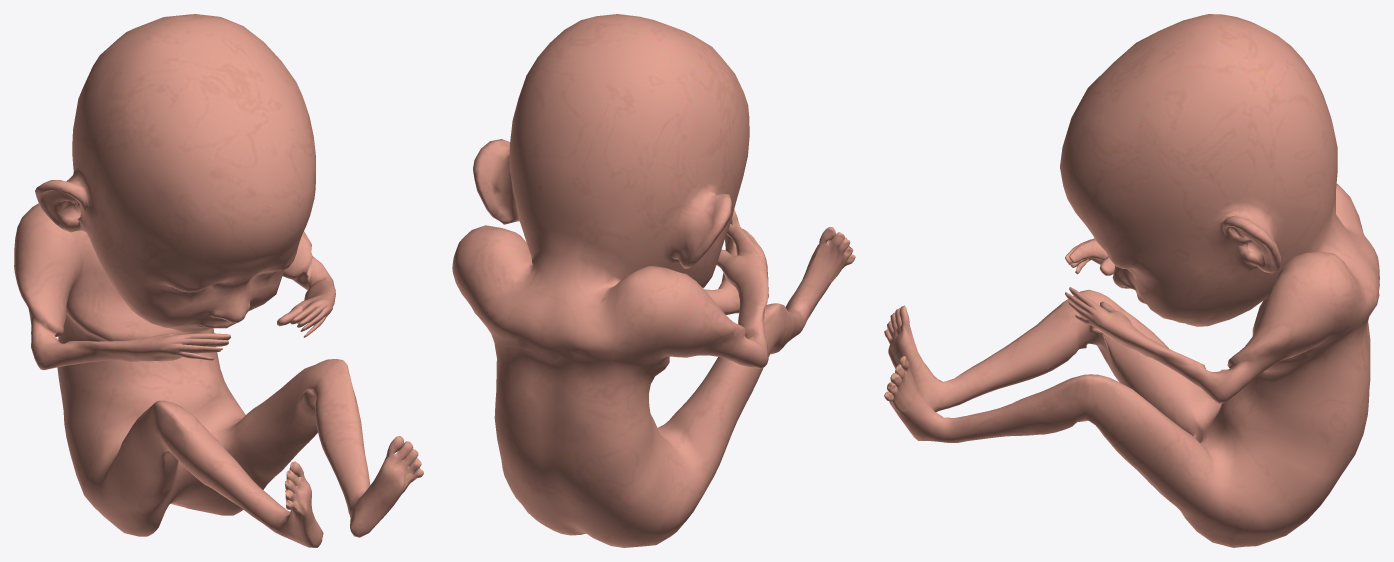
File: pb-w18.31dcc7fd.glb
The picture shows the model from 3 angles, left to right: view 1: azimuth 30°, elevation 25°; view 2: azimuth 150°, elevation 25°; view 3: azimuth 270°, elevation 25°; orthographic projection.
Visible parts, largest first — view 1: Baby; view 2: Baby; view 3: Baby.
Part boxes in pixels (x1,y1,x2,y2): Baby: (14, 14, 423, 547); Baby: (452, 14, 855, 547); Baby: (884, 14, 1379, 547).
Bounding box in the file's own units: 0.0949 × 0.1543 × 0.1385.
1 material, 1 textured.
